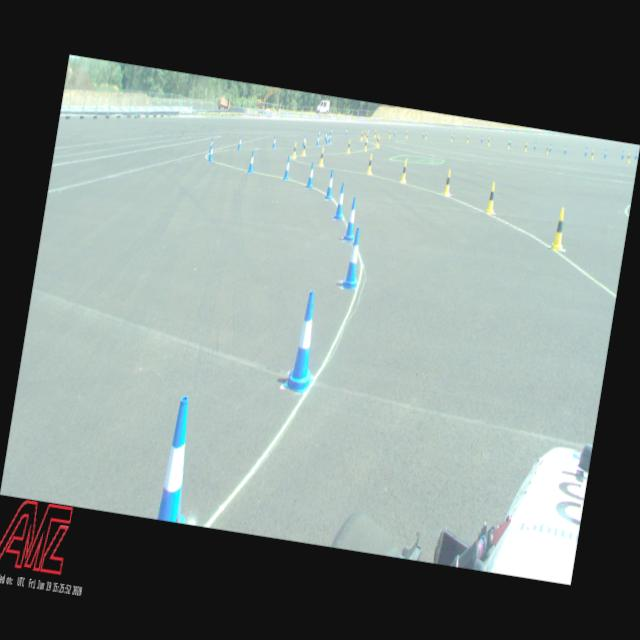blue_cone: (157, 395, 205, 524), (283, 288, 327, 394), (342, 226, 366, 290), (342, 196, 360, 242), (334, 182, 348, 220), (324, 169, 336, 200), (306, 162, 316, 188), (284, 156, 292, 180), (248, 151, 256, 173), (208, 144, 215, 162), (209, 137, 215, 153), (237, 136, 243, 150), (316, 134, 321, 146), (302, 135, 306, 148), (273, 136, 277, 148), (328, 133, 332, 143), (326, 134, 330, 144), (325, 130, 328, 140)
yellow_cone: (550, 207, 568, 251), (485, 182, 498, 214), (443, 170, 453, 196), (400, 160, 409, 184), (366, 153, 374, 174), (319, 148, 326, 166), (292, 142, 298, 159), (302, 140, 308, 156), (347, 140, 352, 154), (364, 138, 368, 152), (376, 137, 381, 148), (591, 148, 595, 160), (524, 142, 528, 152), (376, 134, 379, 146), (366, 133, 369, 142), (546, 145, 549, 154), (628, 153, 630, 163), (488, 137, 490, 146), (508, 140, 510, 149)
